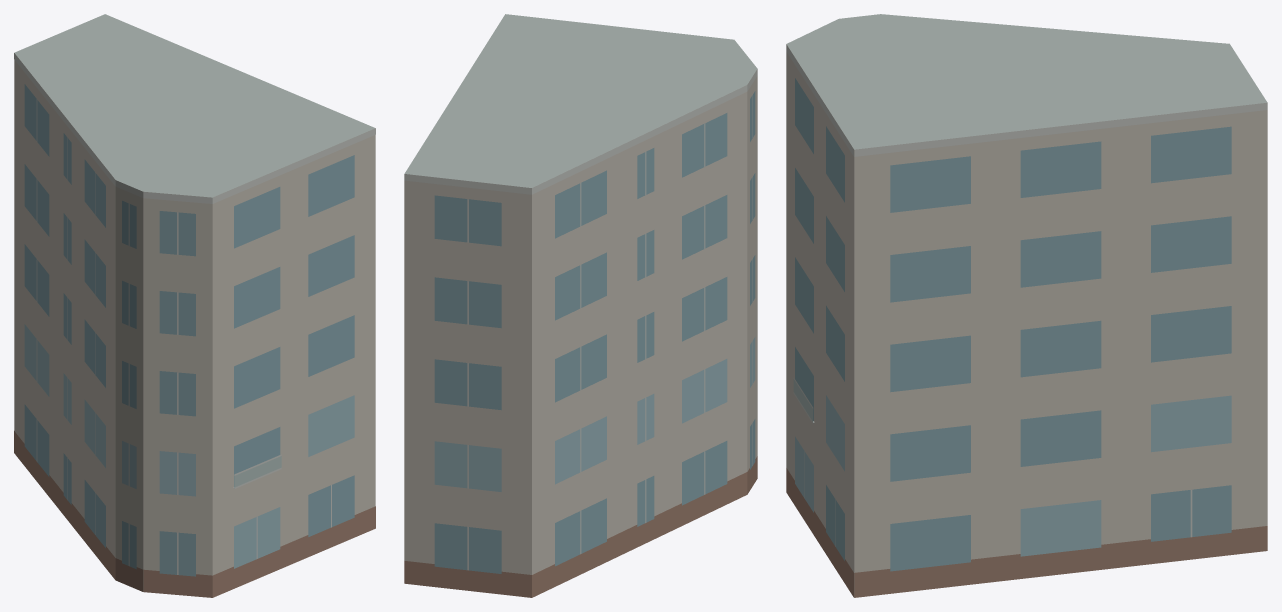
The model's file is survey-upis-32956457.glb.
The picture shows the model from 3 angles, left to right: view 1: azimuth 30°, elevation 25°; view 2: azimuth 150°, elevation 25°; view 3: azimuth 270°, elevation 25°; orthographic projection. The views are drawn at different scales.
Parts seen in each view (by area): view 1: survey-upis-32956457.tmp; view 2: survey-upis-32956457.tmp; view 3: survey-upis-32956457.tmp.
Part boxes in pixels (x1,y1,x2,y2): survey-upis-32956457.tmp: (14, 14, 375, 597); survey-upis-32956457.tmp: (404, 14, 757, 597); survey-upis-32956457.tmp: (786, 14, 1267, 597).
Bounding box in the file's own units: 9.75 × 15 × 14.61.
